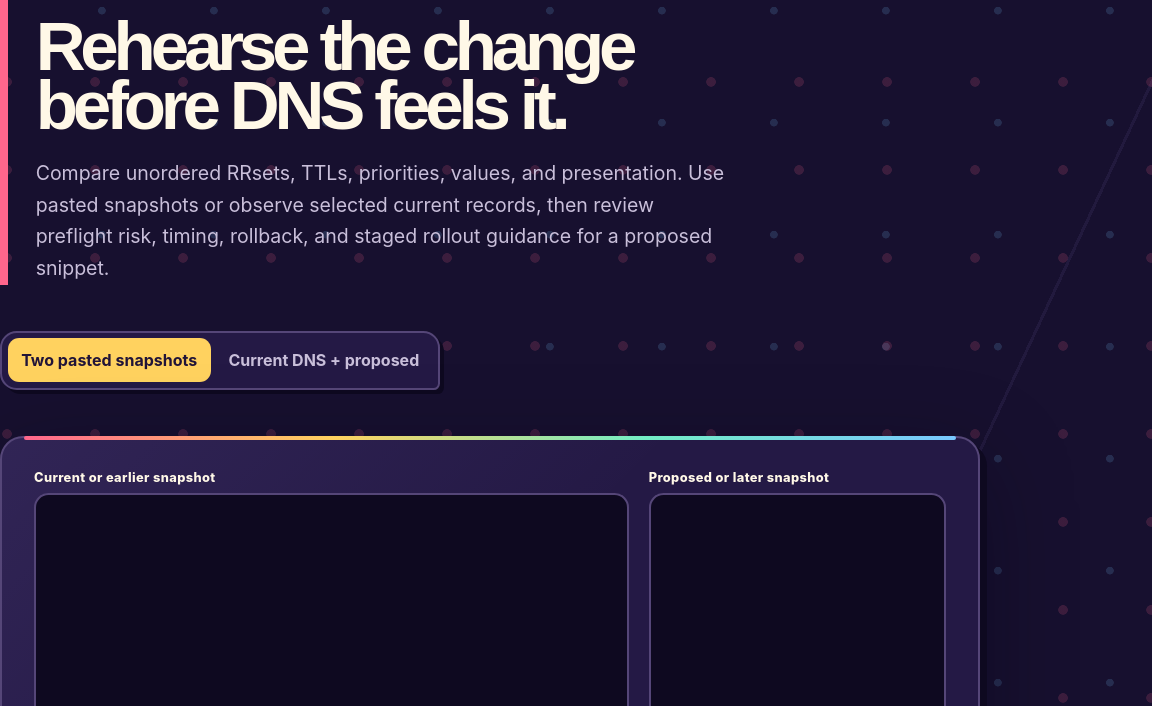
Test: DNS Change Lab › requires the current name to be inside an explicitly declared zone boundary
Click the button "Current DNS + proposed": [324, 360] box [215,338,433,382]
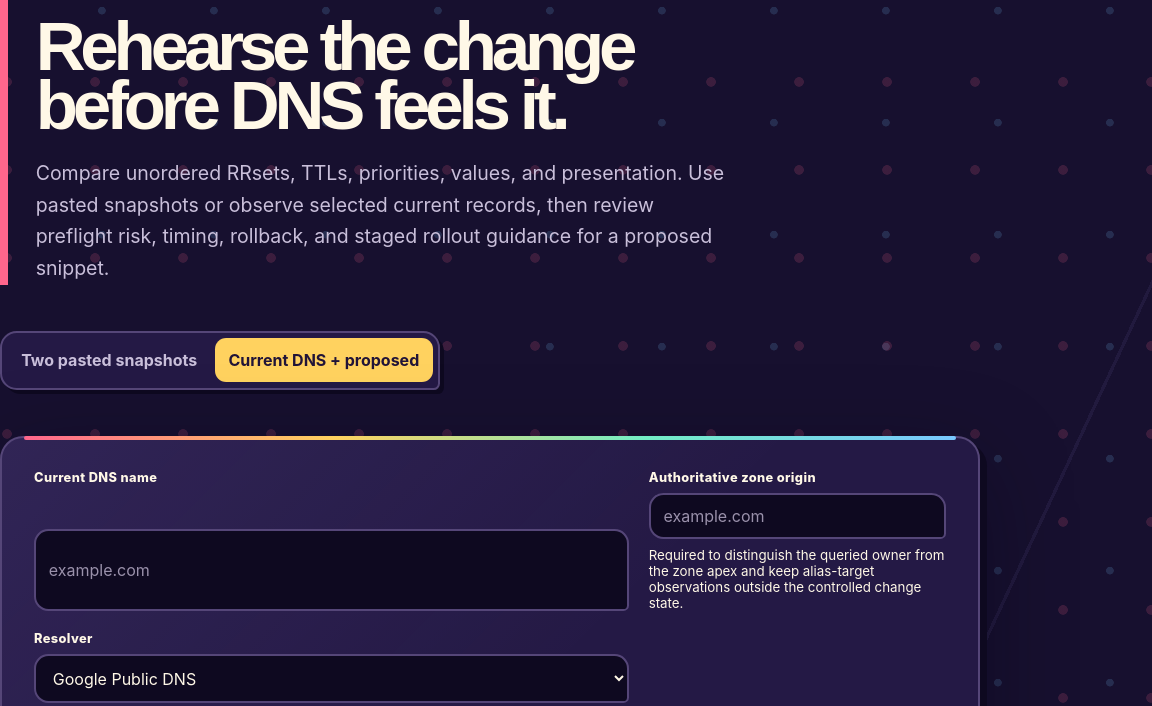
In the field labelled "Current DNS name": [331, 570] box [34,529,629,611], type "www.example.com"
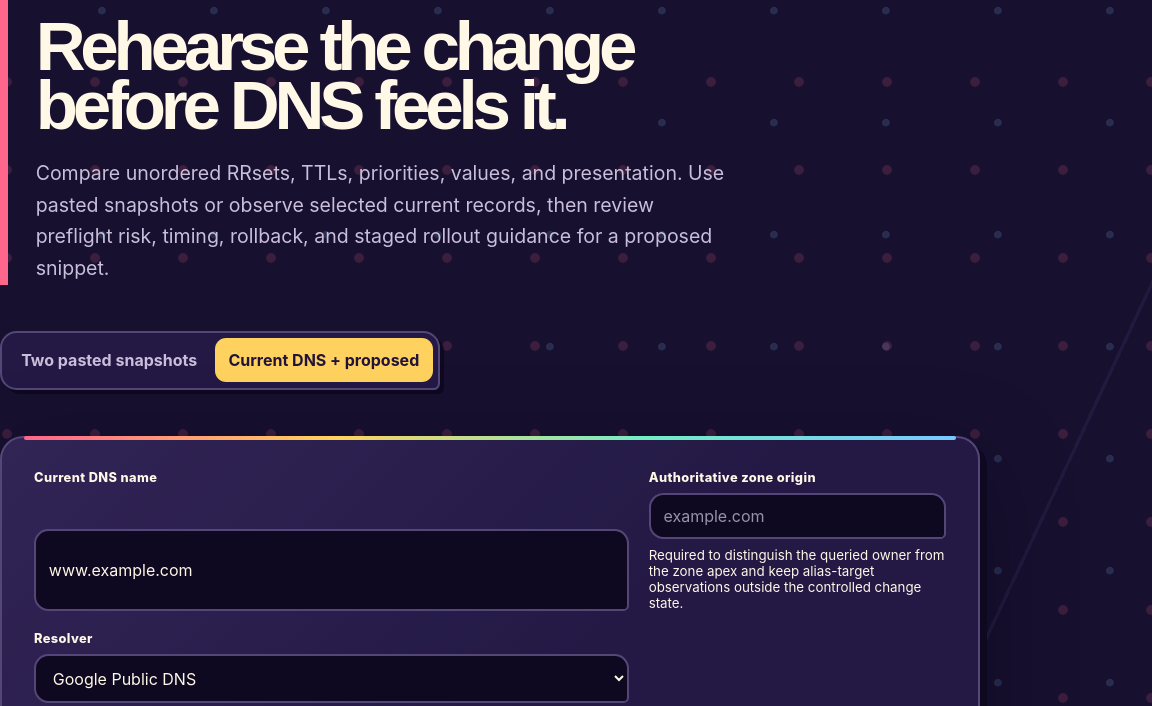
In the field labelled "Authoritative zone origin": [797, 516] box [649,493,946,539], type "unrelated.example"
(page scrolled)
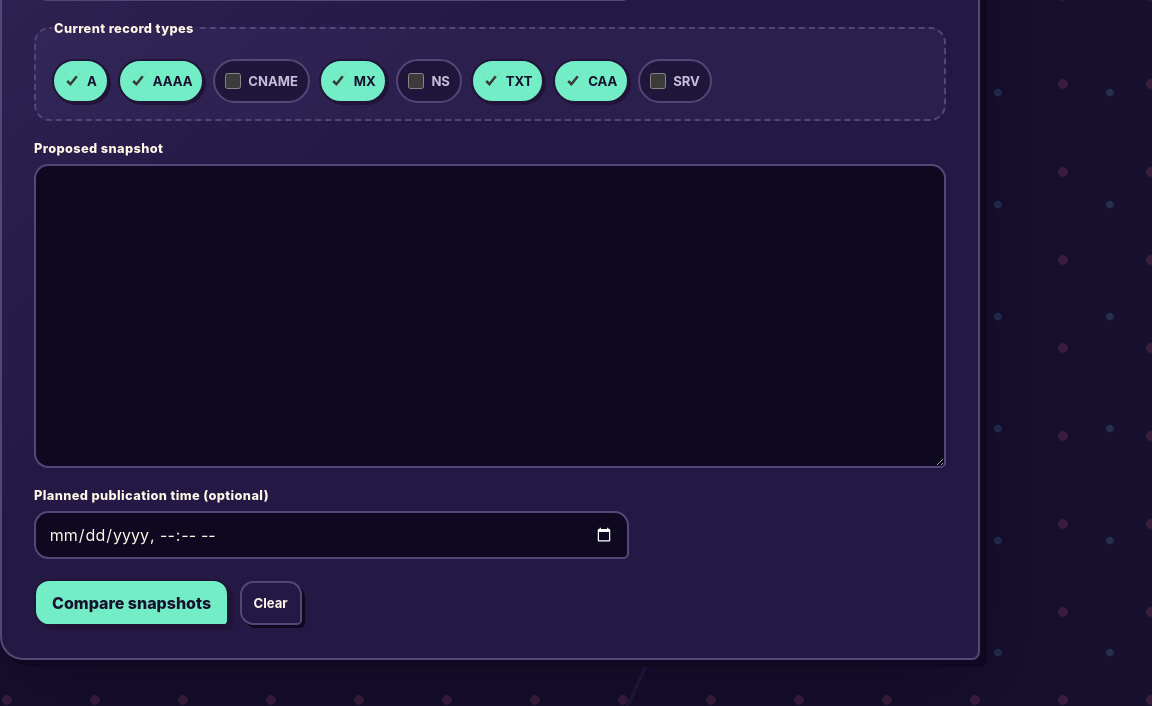
Click the button "Compare snapshots": [132, 603] box [34,579,229,626]
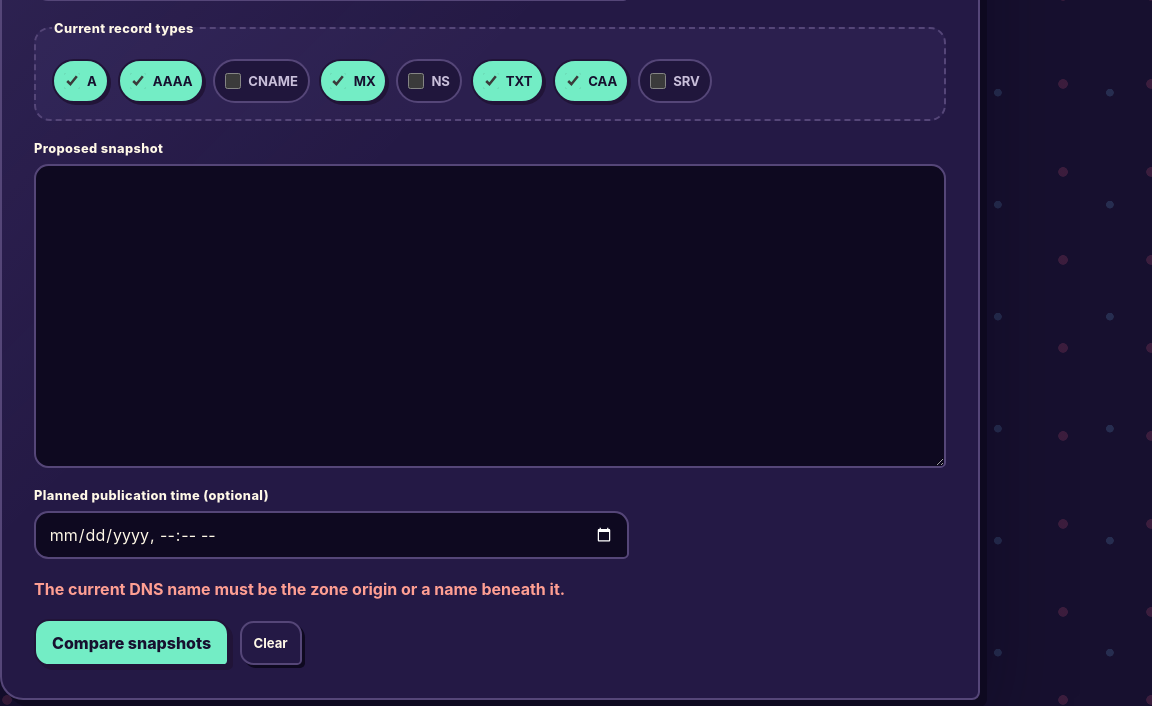
Result: the message reads "The current DNS name must be the zone origin or a name beneath it." at [34,579,565,599]
